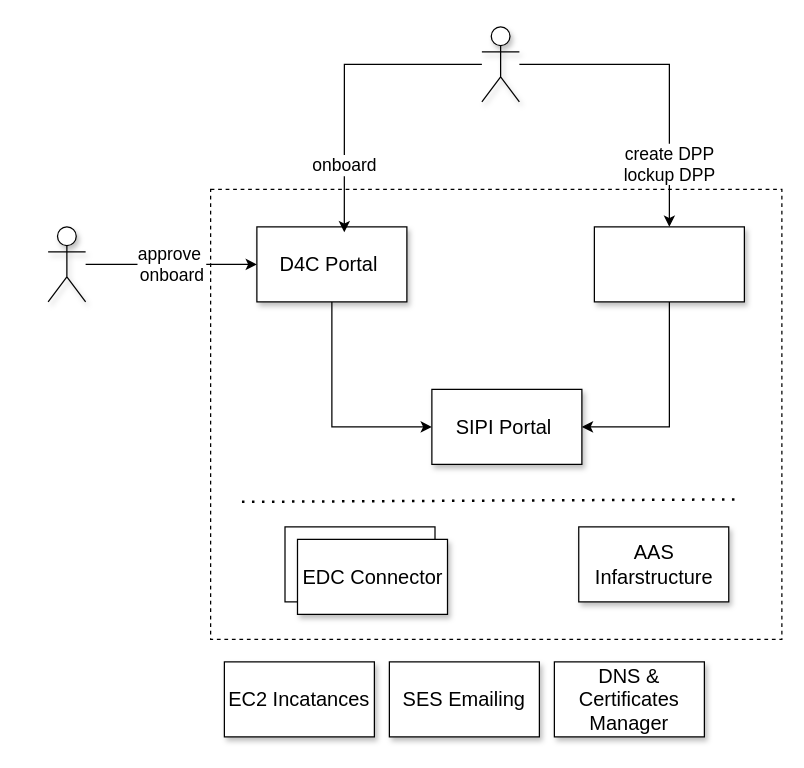
This 804x768 diagram has some shape labels left out. The shapes that lost their labels are listed below. From the top down, each one's centre as x and y in pixels, then its label:
the point at 501,66: Organization Admin
the point at 67,266: Data Space Admin
the point at 670,266: DPP Prototype
